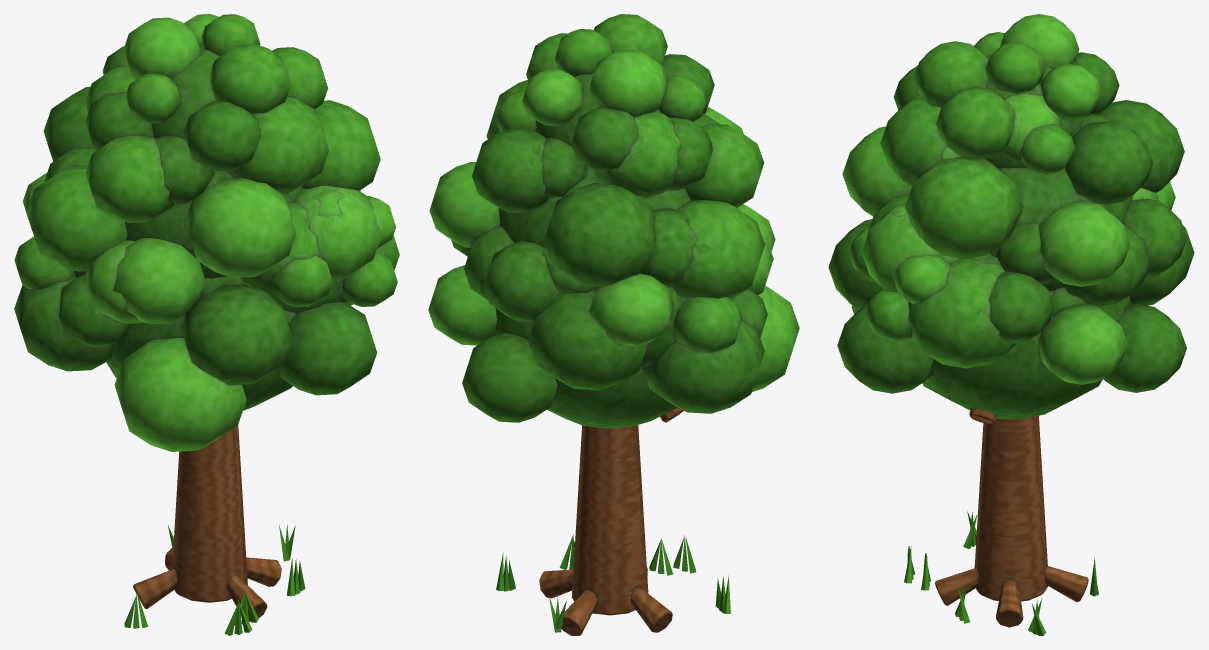
File: pear_tree.glb
The picture shows the model from 3 angles, left to right: view 1: azimuth 30°, elevation 25°; view 2: azimuth 150°, elevation 25°; view 3: azimuth 270°, elevation 25°; orthographic projection.
Parts seen in each view (by area): view 1: crown, pear_tree; view 2: crown, pear_tree; view 3: crown, pear_tree.
Boxes of the visible parts, x1=… form: crown: x1=14, y1=14, x2=399, y2=451; pear_tree: x1=124, y1=425, x2=305, y2=635; crown: x1=428, y1=14, x2=799, y2=428; pear_tree: x1=496, y1=407, x2=730, y2=635; crown: x1=828, y1=14, x2=1194, y2=418; pear_tree: x1=904, y1=408, x2=1098, y2=635.
Size of the model in its own units: 0.8865 by 1.48 by 0.8695.
1 material, 1 textured.
